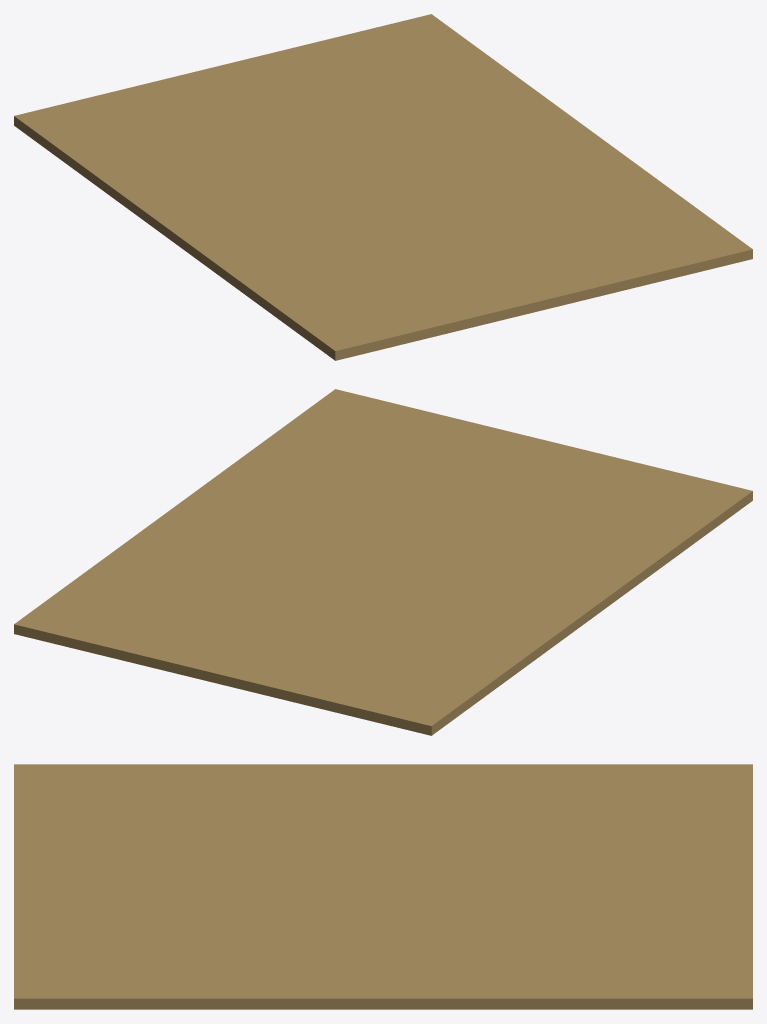
Rendered from OBJ_Rug_01.fbx.
The picture shows the model from 3 angles, top to bottom: view 1: azimuth 30°, elevation 25°; view 2: azimuth 150°, elevation 25°; view 3: azimuth 270°, elevation 25°; orthographic projection. The views are drawn at different scales.
Visible parts, largest first — view 1: rug; view 2: rug; view 3: rug.
Boxes of the visible parts, x1=… form: rug: x1=14, y1=14, x2=752, y2=360; rug: x1=14, y1=389, x2=752, y2=735; rug: x1=14, y1=764, x2=752, y2=1009.
Size of the model in its own units: 9 by 0.2 by 12.
